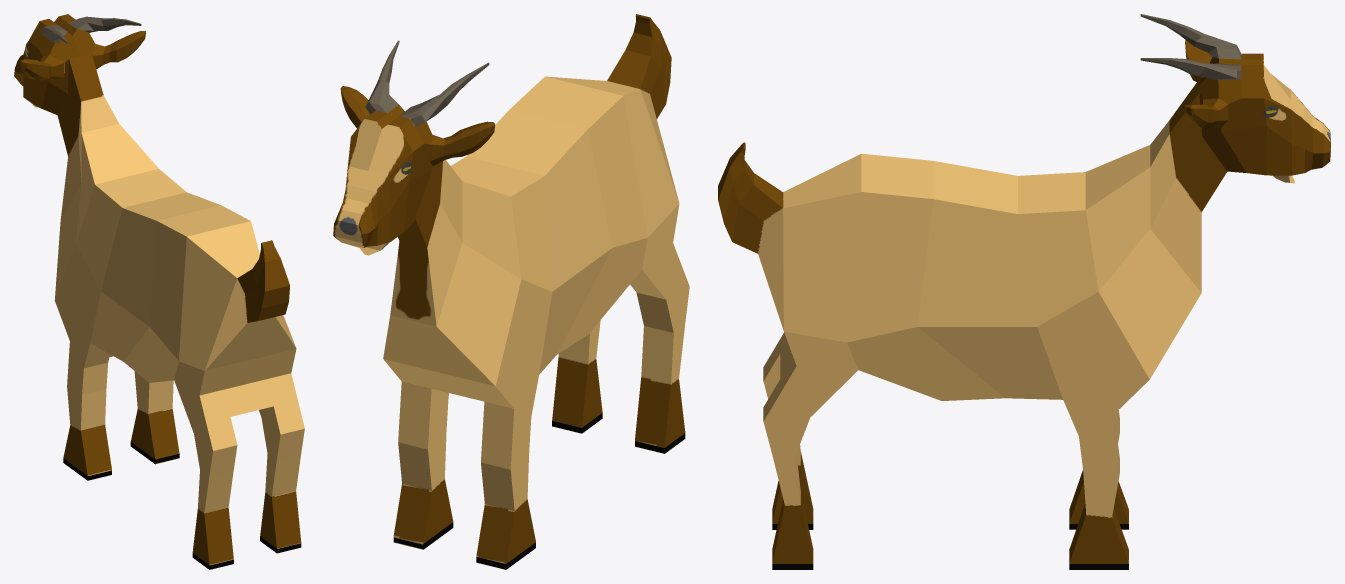
The model's file is GoatFlan.fbx.
3 renders of one model, left to right at view 1: azimuth 30°, elevation 25°; view 2: azimuth 150°, elevation 25°; view 3: azimuth 270°, elevation 25°, orthographic. The views are drawn at different scales.
Parts seen in each view (by area): view 1: GoatFlan; view 2: GoatFlan; view 3: GoatFlan.
Part boxes in pixels (x1,y1,x2,y2): GoatFlan: (14,14,304,569); GoatFlan: (333,14,689,569); GoatFlan: (718,14,1330,569).
Size of the model in its own units: 272 by 864 by 948.
Materials: 1 (1 with a texture image).
